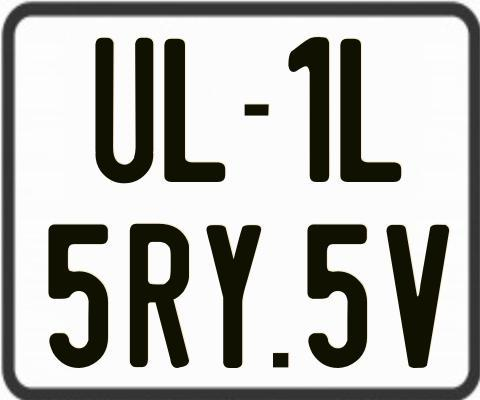1: (285, 37, 326, 183)
5: (48, 223, 112, 372), (307, 221, 372, 365)
L: (162, 38, 229, 182), (340, 39, 401, 188)
R: (130, 223, 190, 373)
U: (94, 36, 158, 183)
V: (385, 222, 447, 371)
Y: (204, 224, 262, 368)
